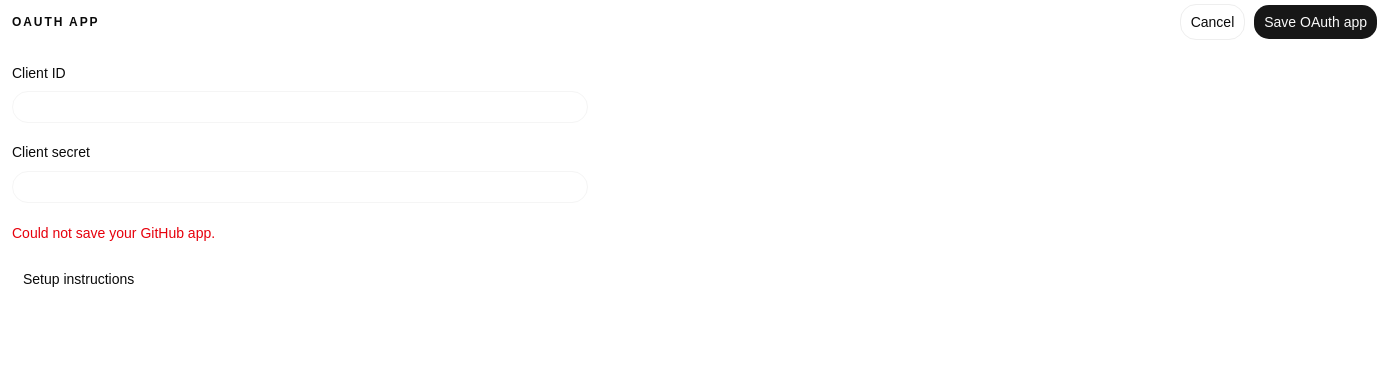
editing a configured app requests both credentials and keeps setup instructions available
Expected: the password field labelled "Client secret" is empty, [12, 170, 588, 202]
Expected: the field labelled "Client ID" is empty, [12, 91, 588, 123]
Click the button "Setup instructions" at point(79, 278), box [12, 262, 145, 294]
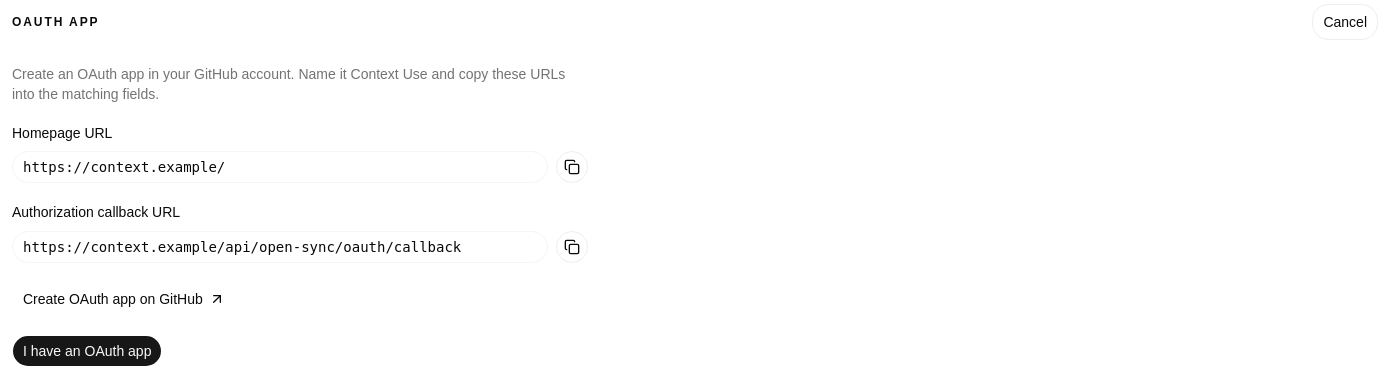
Result: the field labelled "Authorization callback URL" is shown at [12, 230, 548, 262]
